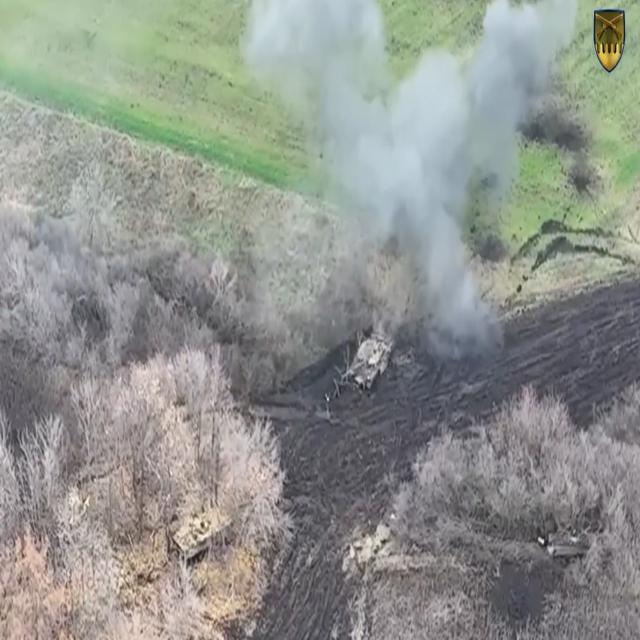tank: (172, 510, 232, 562), (348, 332, 391, 391)
